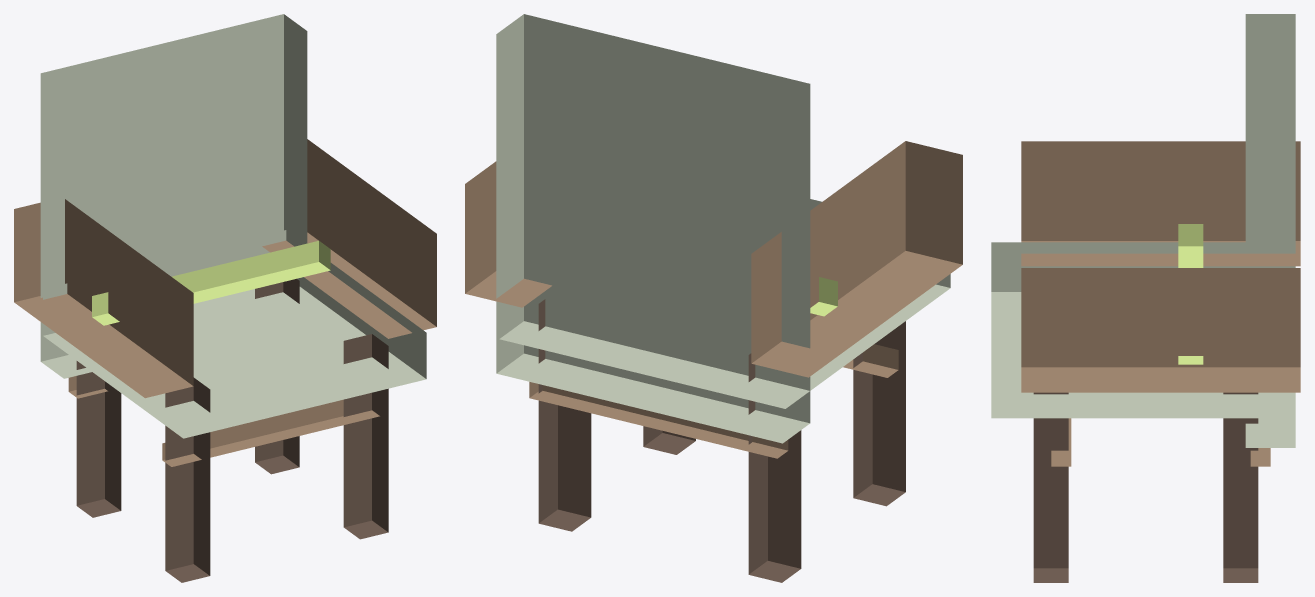
File: chair.glb
3 renders of one model, left to right at view 1: azimuth 30°, elevation 25°; view 2: azimuth 150°, elevation 25°; view 3: azimuth 270°, elevation 25°, orthographic. The views are drawn at different scales.
Parts seen in each view (by area): view 1: ModernArmchair; view 2: ModernArmchair; view 3: ModernArmchair.
Boxes of the visible parts, x1=… form: ModernArmchair: x1=14, y1=14, x2=436, y2=582; ModernArmchair: x1=465, y1=14, x2=962, y2=582; ModernArmchair: x1=991, y1=14, x2=1300, y2=582.
Size of the model in its own units: 0.72 by 1 by 0.62.
